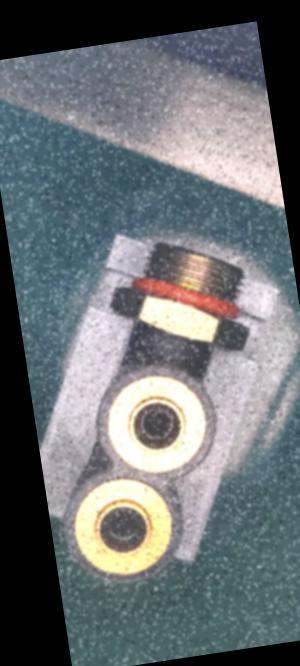joint line: (178, 338, 193, 358)
